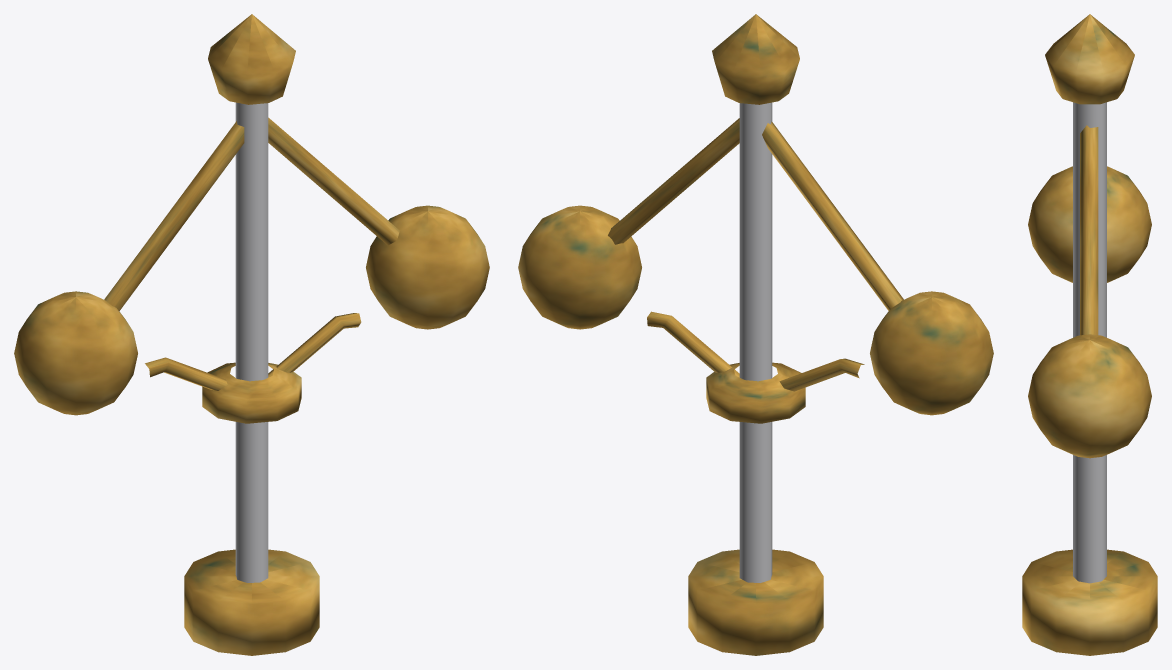
The model's file is sp_lift_gov.glb.
3 renders of one model, left to right at view 1: azimuth 30°, elevation 25°; view 2: azimuth 150°, elevation 25°; view 3: azimuth 270°, elevation 25°, orthographic.
Parts seen in each view (by area): view 1: spire; view 2: spire; view 3: spire.
Boxes of the visible parts, x1,y1,x2,y2 form: spire: (14, 14, 489, 655); spire: (518, 14, 993, 655); spire: (1022, 14, 1157, 655).
Bounding box in the file's own units: 0.94 × 1.2 × 0.24.
Materials: 2 (1 with a texture image).
